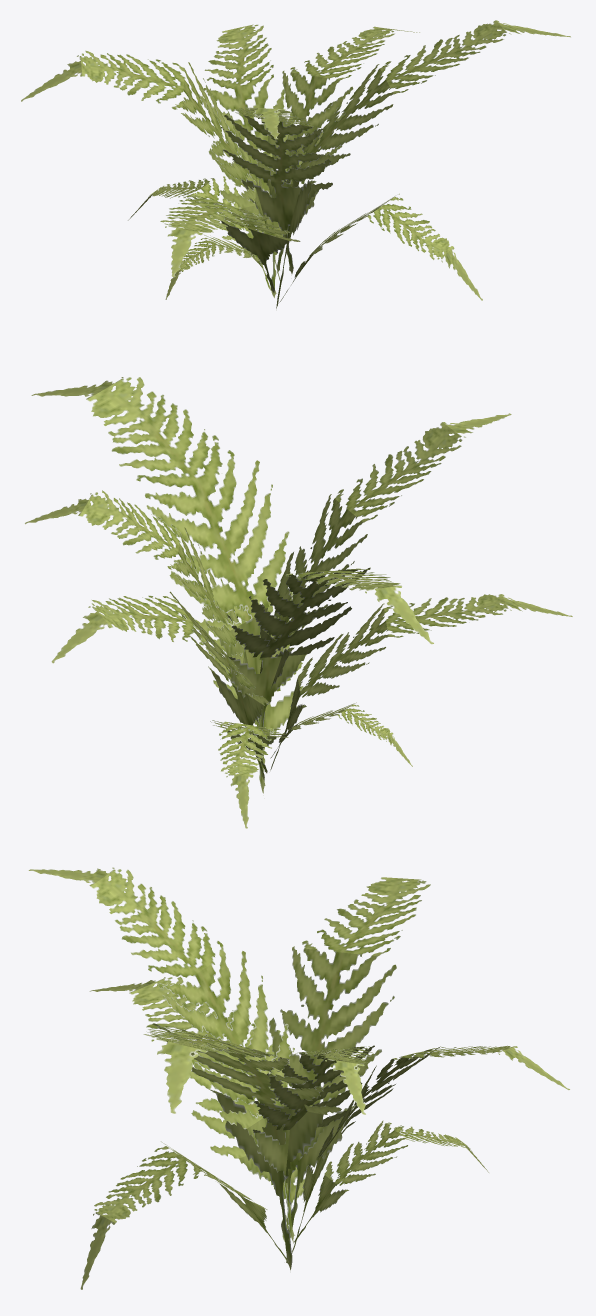
Rendered from Planter_007.fbx.
3 renders of one model, top to bottom at view 1: azimuth 30°, elevation 25°; view 2: azimuth 150°, elevation 25°; view 3: azimuth 270°, elevation 25°, orthographic. The views are drawn at different scales.
Parts seen in each view (by area): view 1: Planters_007; view 2: Planters_007; view 3: Planters_007.
Boxes of the visible parts, x1,y1,x2,y2 form: Planters_007: [21, 20, 570, 308]; Planters_007: [25, 377, 572, 828]; Planters_007: [28, 867, 569, 1289].
Bounding box in the file's own units: 252 × 157 × 217.
